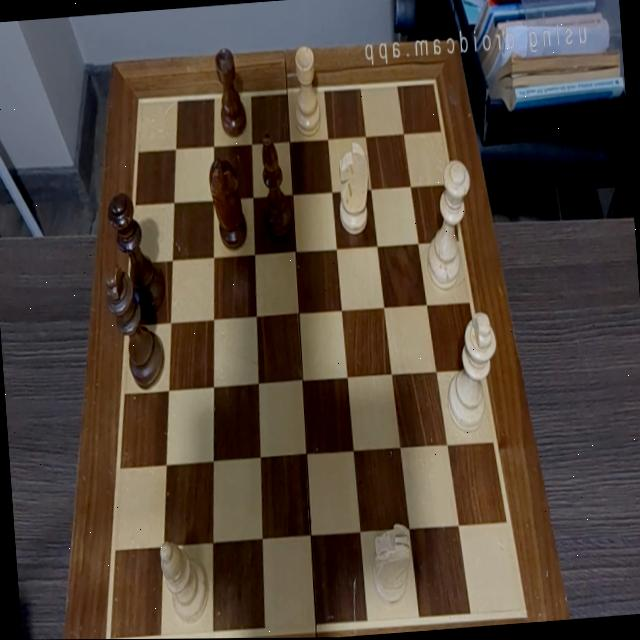black_bishop: (258, 132, 294, 238)
black_king: (104, 262, 166, 391)
black_knight: (207, 155, 248, 251)
black_queen: (106, 190, 164, 317)
black_rook: (214, 46, 248, 138)
white_bishop: (160, 537, 210, 623)
white_king: (440, 311, 502, 434)
white_knight: (333, 140, 373, 238), (369, 523, 414, 604)
white_queen: (420, 159, 477, 292)
white_rook: (290, 44, 322, 137)
